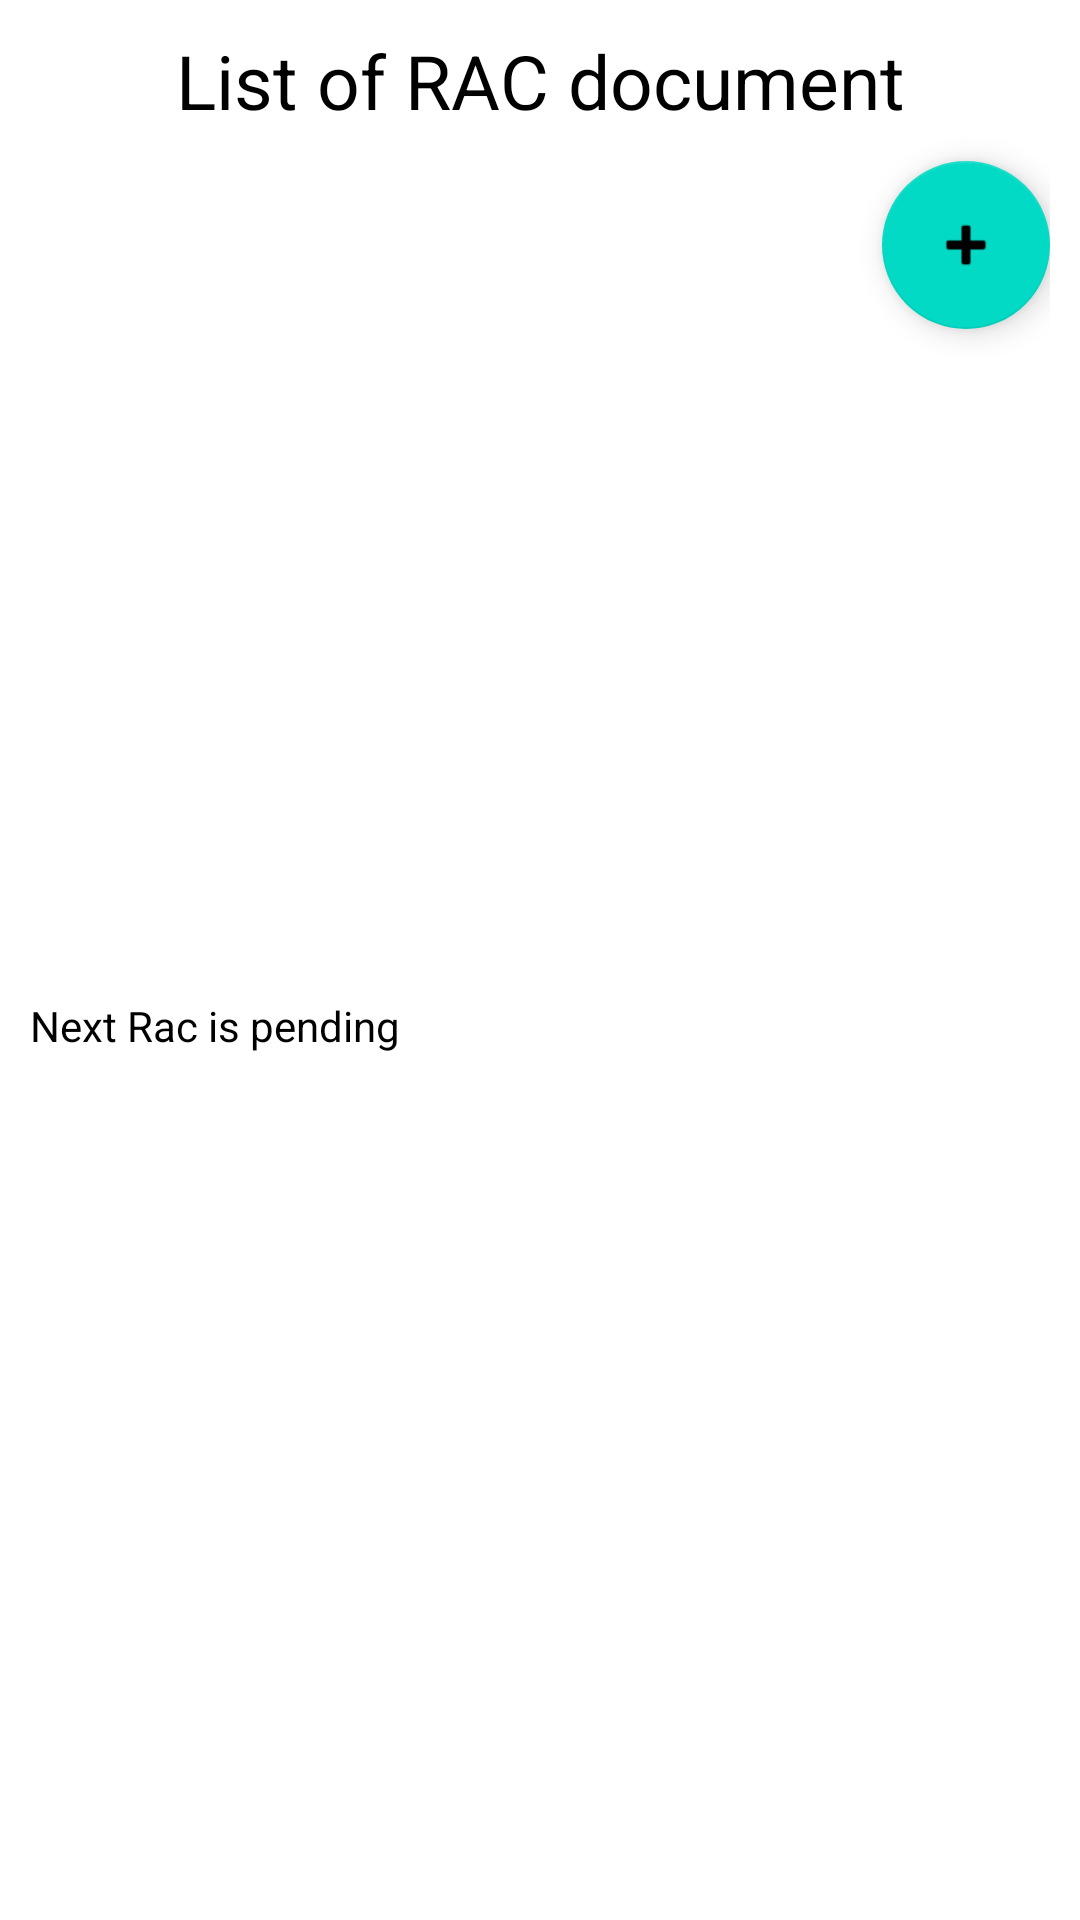

Where to tap for icons on this 1080x1920 app screen, as (x,y):
add: (966,245)
